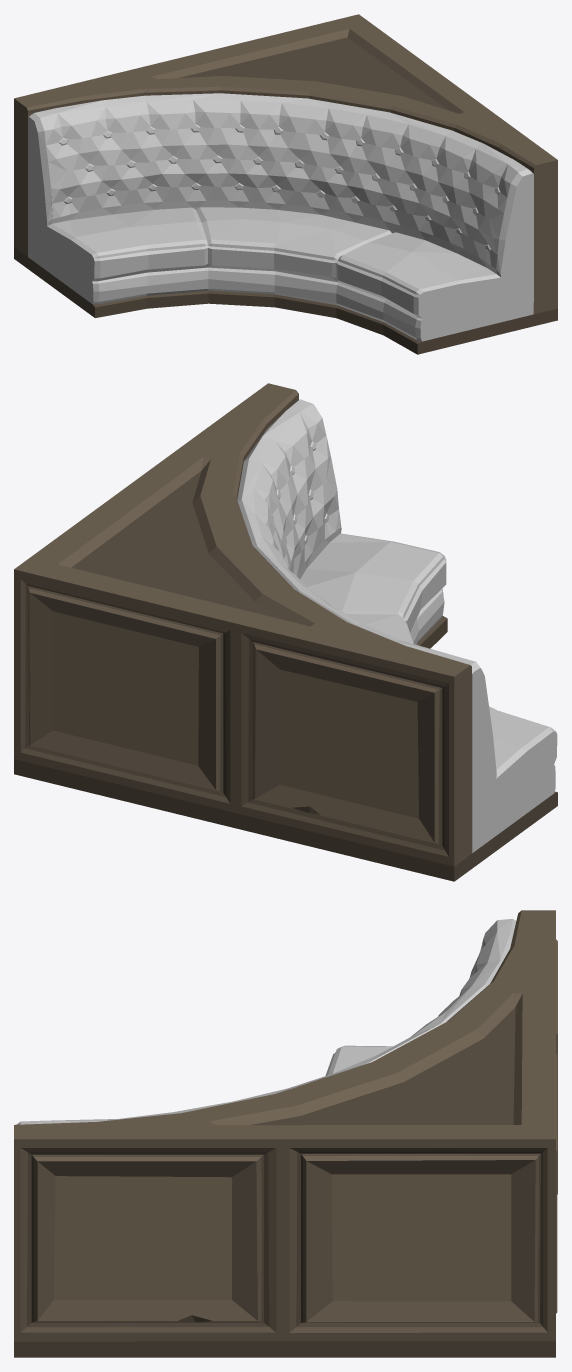
The model's file is SM_Prop_Sofa_01_Corner_02.fbx.
3 views of the same model, one above another, from view 1: azimuth 30°, elevation 25°; view 2: azimuth 150°, elevation 25°; view 3: azimuth 270°, elevation 25° (orthographic). The views are drawn at different scales.
Parts seen in each view (by area): view 1: SM_Prop_Sofa_01_Corner_02; view 2: SM_Prop_Sofa_01_Corner_02; view 3: SM_Prop_Sofa_01_Corner_02.
Part boxes in pixels (box(x1,y1,x2,y2)): SM_Prop_Sofa_01_Corner_02: box(14, 14, 557, 354); SM_Prop_Sofa_01_Corner_02: box(14, 383, 557, 881); SM_Prop_Sofa_01_Corner_02: box(14, 910, 557, 1357).
Bounding box in the file's own units: 251 × 111 × 251.
